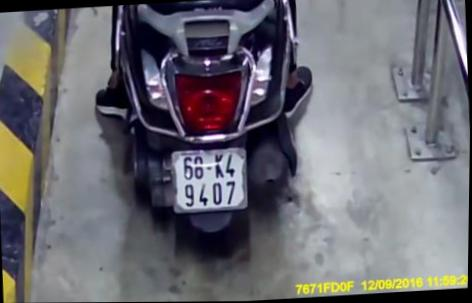LP: (170, 147, 250, 214)
